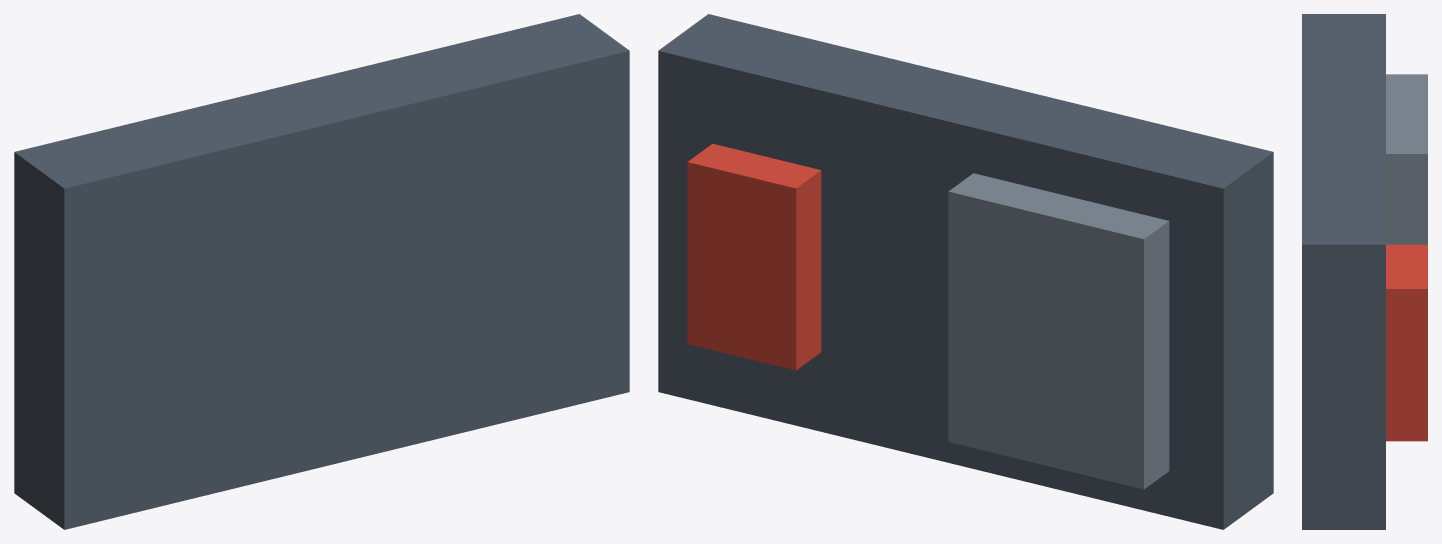
The picture shows the model from 3 angles, left to right: view 1: azimuth 30°, elevation 25°; view 2: azimuth 150°, elevation 25°; view 3: azimuth 270°, elevation 25°; orthographic projection. The views are drawn at different scales.
Visible parts, largest first — view 1: GEO_module_armor_panel_01_LOD0; view 2: GEO_module_armor_panel_01_LOD0; view 3: GEO_module_armor_panel_01_LOD0.
Part boxes in pixels (x1=…): GEO_module_armor_panel_01_LOD0: x1=14, y1=14, x2=629, y2=529; GEO_module_armor_panel_01_LOD0: x1=658, y1=14, x2=1273, y2=529; GEO_module_armor_panel_01_LOD0: x1=1302, y1=14, x2=1427, y2=529.
Size of the model in its own units: 0.052 by 0.03 by 0.012.
